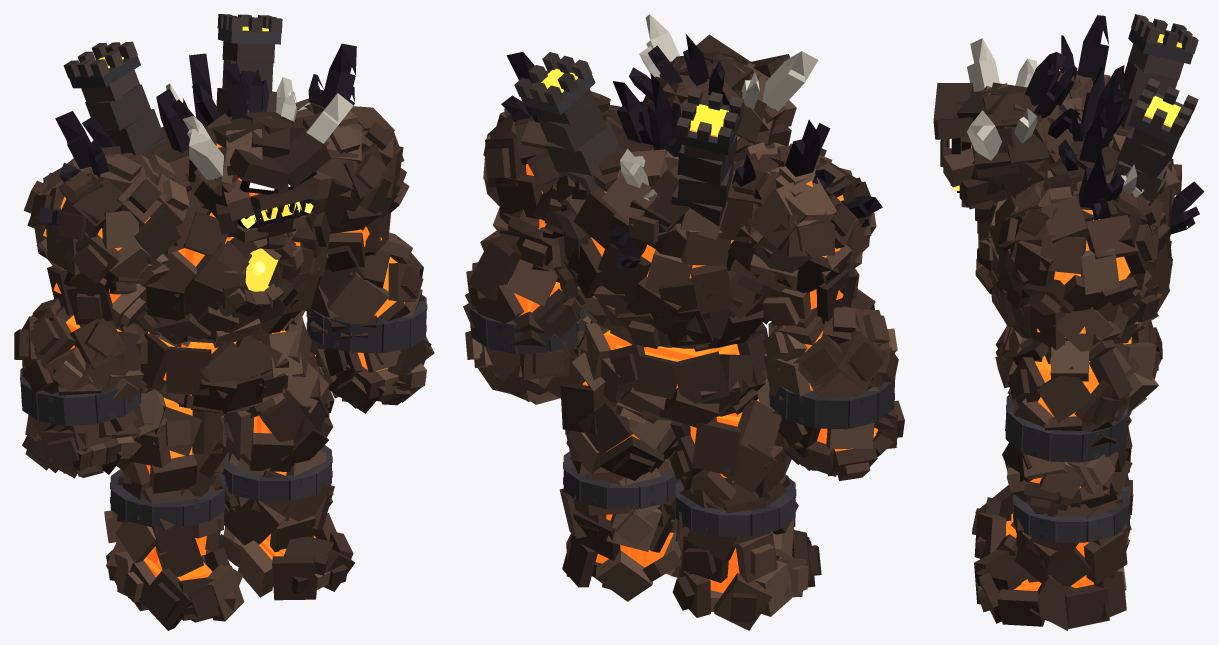
The picture shows the model from 3 angles, left to right: view 1: azimuth 30°, elevation 25°; view 2: azimuth 150°, elevation 25°; view 3: azimuth 270°, elevation 25°; orthographic projection. The views are drawn at different scales.
Parts seen in each view (by area): view 1: CinderColossus; view 2: CinderColossus; view 3: CinderColossus.
Part boxes in pixels (x1,y1,x2,y2): CinderColossus: [14, 14, 434, 630]; CinderColossus: [463, 14, 904, 630]; CinderColossus: [933, 14, 1204, 630].
Size of the model in its own units: 1.24 by 1.6 by 0.7289.
